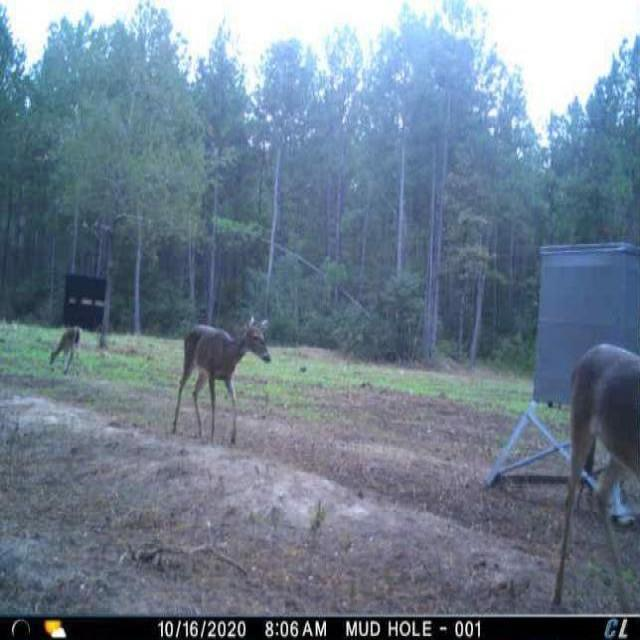deer: (548, 344, 640, 613), (174, 315, 274, 445), (48, 324, 86, 383)
